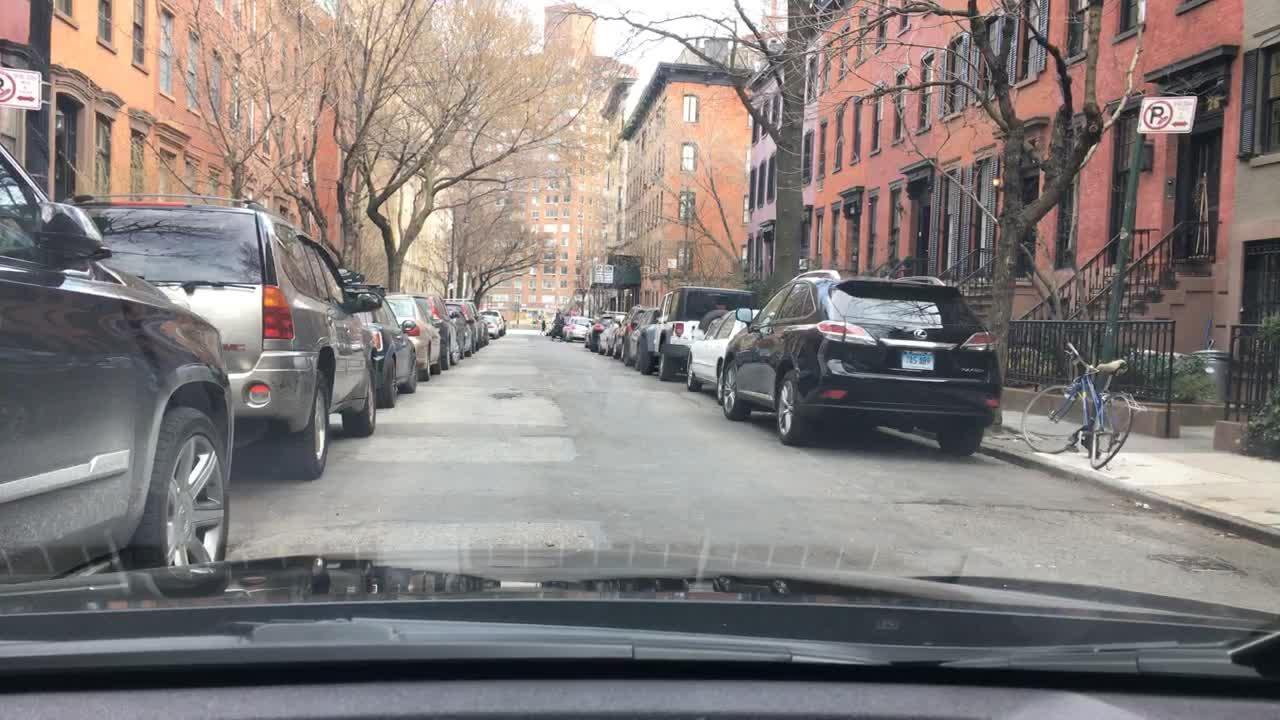lexus: (908, 321, 933, 342)
